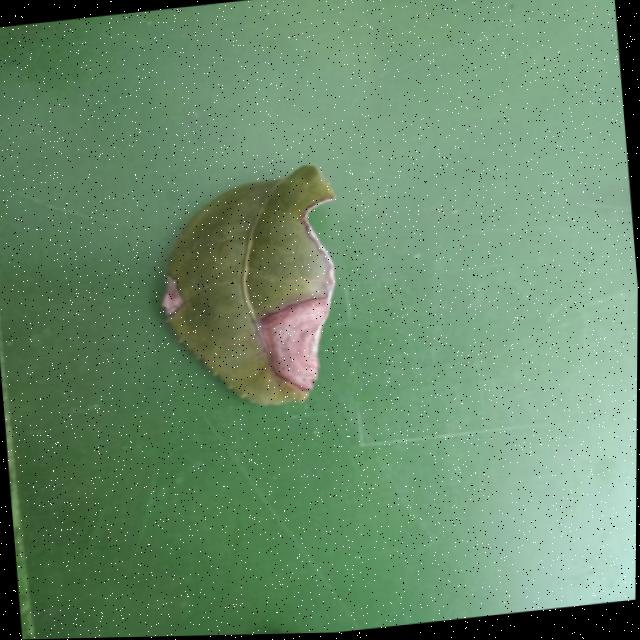Tea cloud leaf blight: (255, 285, 363, 403)
